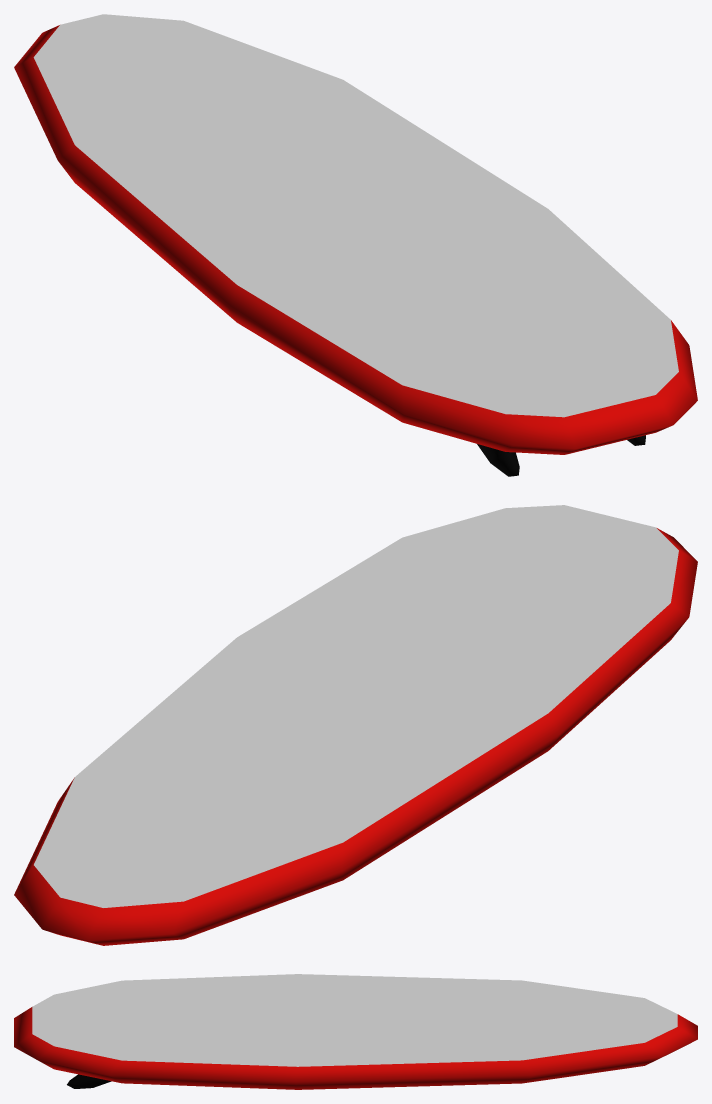
The model's file is Surfboard_Smooth_1.fbx.
3 views of the same model, one above another, from view 1: azimuth 30°, elevation 25°; view 2: azimuth 150°, elevation 25°; view 3: azimuth 270°, elevation 25° (orthographic). The views are drawn at different scales.
Parts seen in each view (by area): view 1: Cube; view 2: Cube; view 3: Cube.
Boxes of the visible parts, <box> form: Cube: <box>14,14,697,476</box>; Cube: <box>14,505,697,945</box>; Cube: <box>14,974,697,1089</box>.
Size of the model in its own units: 111 by 25.72 by 327.
